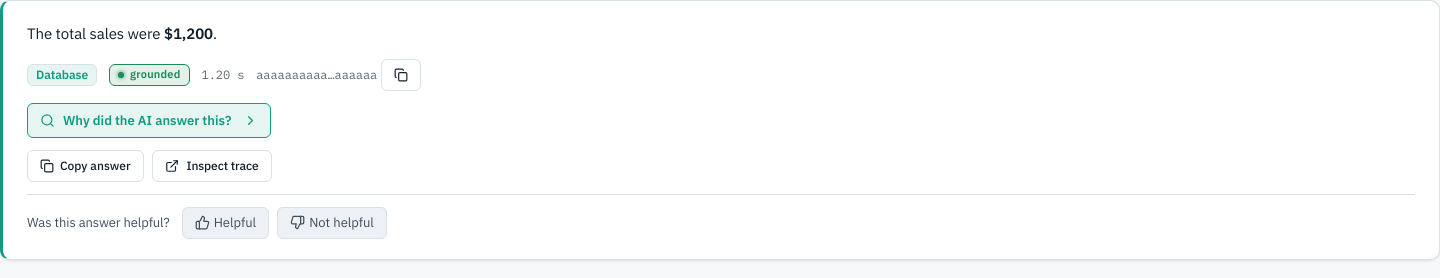
Scenario: AnswerCard feedback › submits rating 5 with no detail when the user clicks Helpful
Click the button "Helpful".
click(225, 222)  # box [182,206,269,238]
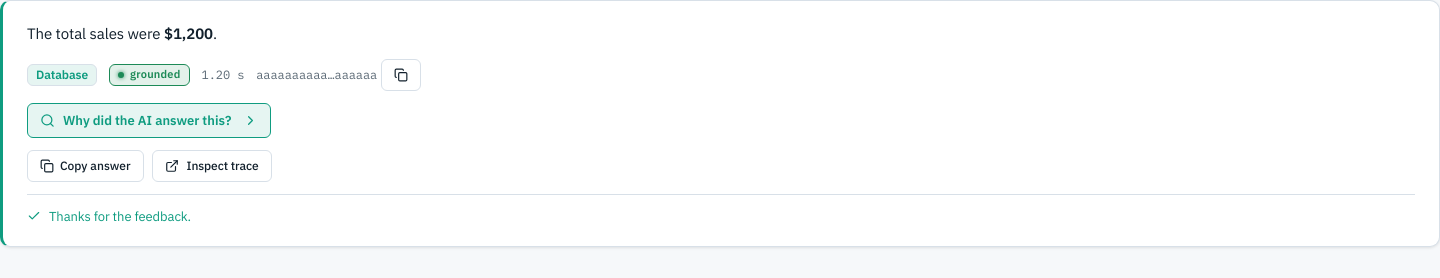
Expected: the text "Thanks for the feedback." is shown, [27,194,1415,226]
Expected: the button "Helpful" is gone
